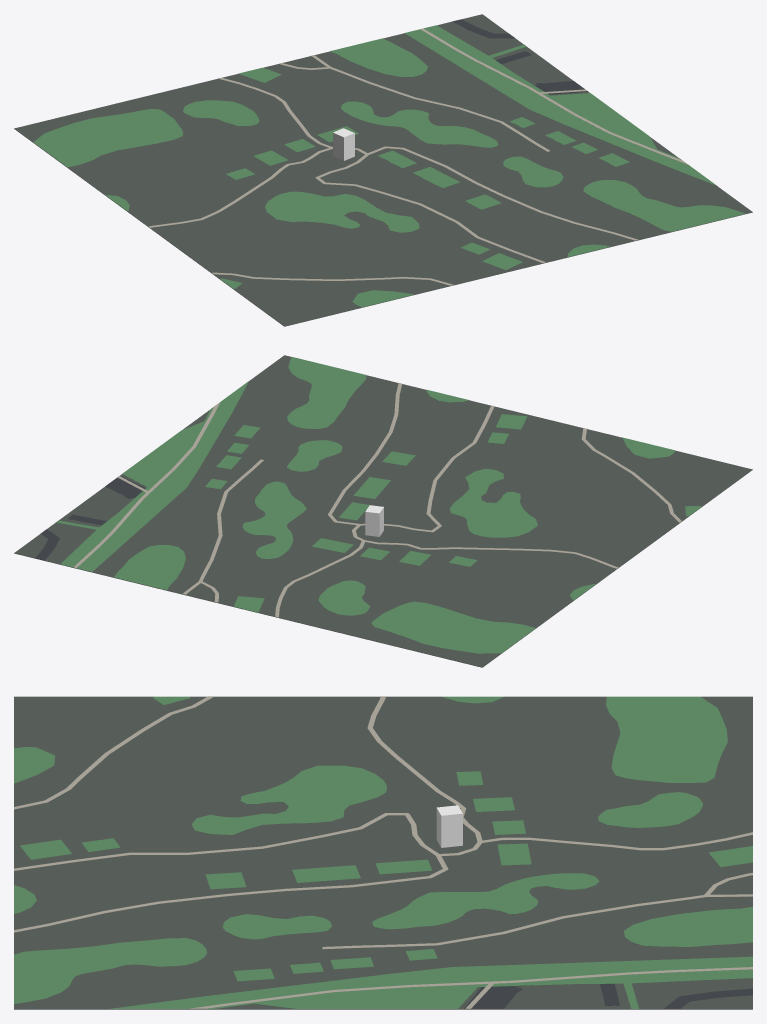
File: tile_001_006.glb
3 renders of one model, top to bottom at view 1: azimuth 30°, elevation 25°; view 2: azimuth 150°, elevation 25°; view 3: azimuth 270°, elevation 25°, orthographic. The views are drawn at different scales.
Parts seen in each view (by area): view 1: tile_001_006_ground, tile_001_006_open_spaces, tile_001_006_paths, tile_001_006_roads, tile_001_006_buildings_neutral; view 2: tile_001_006_ground, tile_001_006_open_spaces, tile_001_006_paths, tile_001_006_roads, tile_001_006_buildings_neutral; view 3: tile_001_006_ground, tile_001_006_open_spaces, tile_001_006_paths, tile_001_006_roads, tile_001_006_buildings_neutral.
Part boxes in pixels (<box>): tile_001_006_ground: <box>14,14,752,326</box>; tile_001_006_open_spaces: <box>33,25,745,307</box>; tile_001_006_paths: <box>148,28,688,285</box>; tile_001_006_roads: <box>452,19,587,94</box>; tile_001_006_buildings_neutral: <box>333,128,354,160</box>; tile_001_006_ground: <box>14,355,752,667</box>; tile_001_006_open_spaces: <box>56,357,701,653</box>; tile_001_006_paths: <box>73,383,681,617</box>; tile_001_006_roads: <box>35,476,145,560</box>; tile_001_006_buildings_neutral: <box>365,505,383,536</box>; tile_001_006_ground: <box>14,696,752,1009</box>; tile_001_006_open_spaces: <box>14,696,752,1008</box>; tile_001_006_paths: <box>14,696,752,1008</box>; tile_001_006_roads: <box>464,984,752,1008</box>; tile_001_006_buildings_neutral: <box>436,805,462,847</box>.
Bounding box in the file's own units: 250 × 12.16 × 250.
